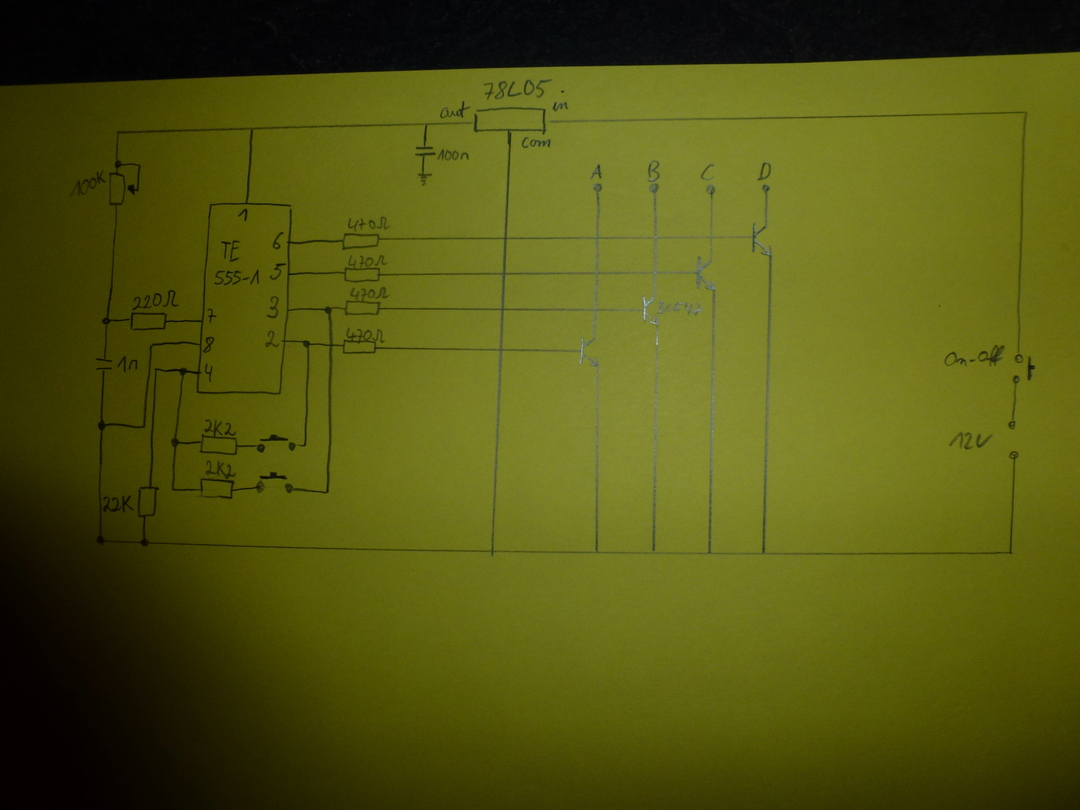capacitor.unpolarized: (413, 142, 437, 160), (94, 355, 113, 373)
crossover: (588, 302, 603, 317), (590, 231, 607, 244), (590, 266, 605, 280), (494, 344, 509, 357), (648, 266, 663, 279), (648, 232, 664, 244), (497, 267, 511, 280), (498, 232, 513, 244), (705, 231, 718, 244), (496, 304, 509, 315), (325, 339, 337, 350)
gnd: (416, 171, 434, 188)
integrated_cricuit.ne555: (194, 201, 294, 397)
junction: (96, 419, 108, 432), (322, 304, 335, 316), (299, 338, 313, 349), (94, 533, 106, 545), (170, 436, 181, 448), (1020, 108, 1033, 118), (178, 365, 188, 377), (100, 316, 112, 326), (703, 548, 714, 558), (487, 547, 498, 557), (139, 538, 150, 548), (247, 125, 258, 135), (113, 158, 123, 169), (649, 547, 659, 557), (1005, 547, 1016, 556), (114, 127, 123, 138), (758, 548, 768, 557), (322, 487, 332, 496), (422, 119, 431, 128), (592, 548, 602, 556), (301, 440, 309, 450), (147, 340, 155, 349), (140, 422, 147, 430), (136, 161, 143, 169), (153, 366, 160, 373), (170, 485, 176, 493)
resistor: (196, 434, 240, 457), (128, 310, 169, 332), (198, 477, 235, 500), (136, 483, 159, 519), (340, 232, 383, 250), (343, 299, 383, 317), (341, 338, 380, 356), (342, 267, 383, 284)
resistor.adjustable: (106, 170, 141, 207)
switch: (255, 470, 295, 496), (256, 433, 299, 454), (1011, 353, 1037, 385)
terminal: (703, 183, 718, 198), (1007, 448, 1020, 462), (591, 181, 605, 194), (648, 182, 661, 196), (759, 182, 773, 195), (1007, 417, 1019, 431)
text: (213, 239, 262, 288), (482, 77, 552, 101), (943, 343, 1006, 368), (70, 169, 106, 197), (947, 430, 994, 451), (132, 289, 179, 310), (657, 300, 703, 318), (346, 216, 391, 232), (345, 327, 386, 344), (203, 418, 237, 437), (102, 494, 135, 513), (349, 286, 390, 301), (438, 100, 470, 119), (204, 460, 235, 479), (346, 254, 387, 268), (521, 135, 552, 150), (437, 149, 471, 162), (645, 158, 663, 182), (552, 90, 571, 112), (699, 161, 718, 182), (117, 356, 139, 374), (267, 262, 286, 281), (266, 295, 281, 319), (264, 329, 280, 350), (757, 161, 773, 181), (202, 362, 215, 383), (589, 162, 603, 180), (271, 231, 284, 250), (203, 336, 215, 353), (238, 207, 250, 223), (206, 307, 216, 324)
transistor: (751, 221, 775, 259), (695, 256, 718, 292), (577, 336, 602, 369), (641, 294, 661, 327)
voltage.dc_regulator: (471, 106, 551, 136)
